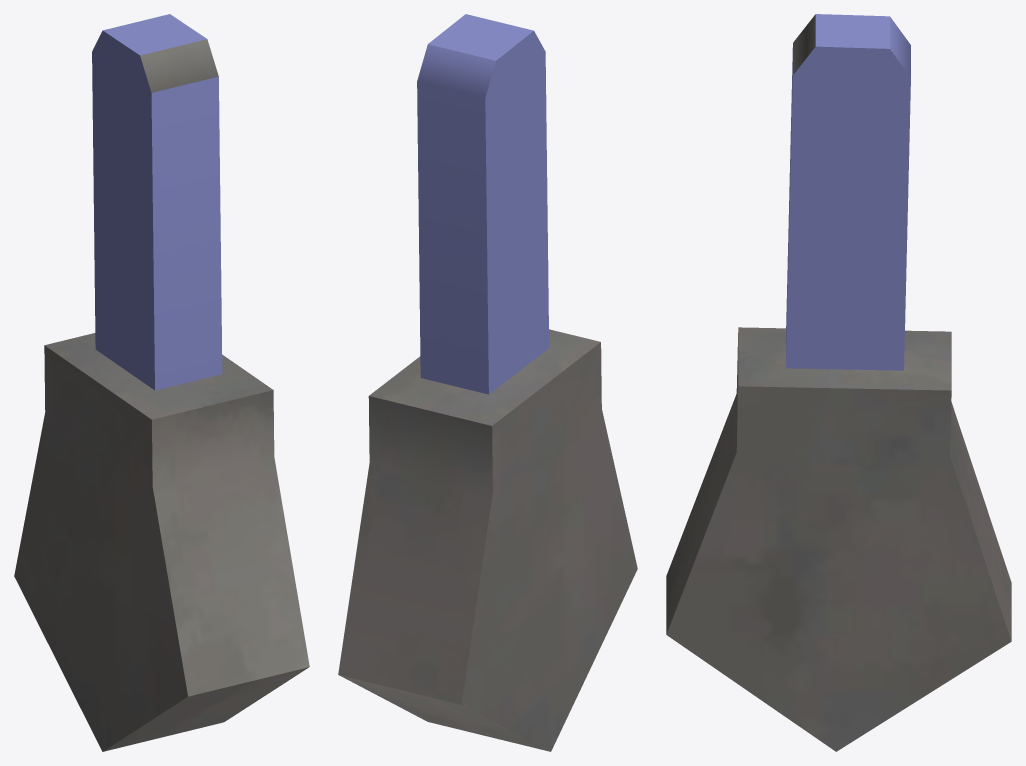
Rendered from Sink_Tap.fbx.
3 renders of one model, left to right at view 1: azimuth 30°, elevation 25°; view 2: azimuth 150°, elevation 25°; view 3: azimuth 270°, elevation 25°, orthographic. The views are drawn at different scales.
Visible parts, largest first — view 1: Sink_Tap; view 2: Sink_Tap; view 3: Sink_Tap.
Part boxes in pixels (<box>): Sink_Tap: <box>14,14,309,751</box>; Sink_Tap: <box>338,14,637,751</box>; Sink_Tap: <box>666,14,1011,751</box>.
Size of the model in its own units: 2.41 by 13.18 by 5.96.
